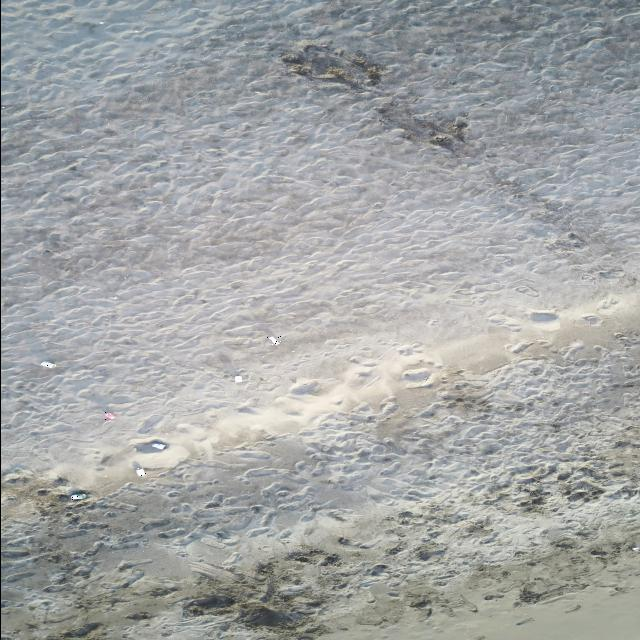Garbage: (135, 440, 167, 452), (71, 492, 87, 500), (267, 335, 280, 344), (40, 360, 55, 367), (104, 411, 115, 420), (151, 442, 166, 447), (136, 467, 144, 475), (233, 375, 240, 382), (633, 546, 639, 551)
